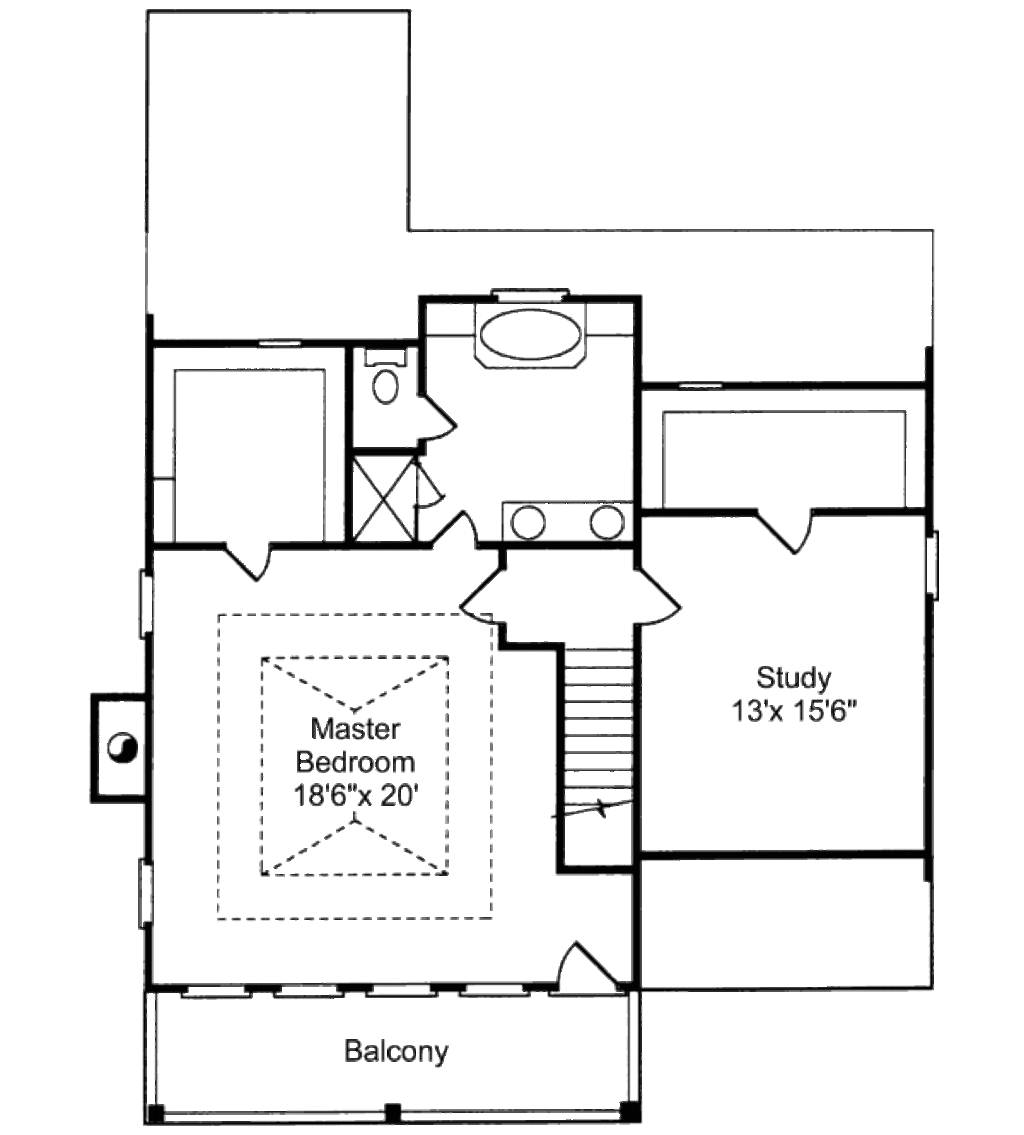door: (629, 560, 676, 634), (557, 944, 626, 989), (757, 505, 814, 551), (457, 570, 503, 620), (229, 546, 281, 579), (422, 396, 450, 437), (419, 460, 440, 512)
large_sink: (362, 349, 414, 410)
stairs: (560, 643, 641, 867)
tub: (471, 293, 590, 375)
twin_sink: (500, 499, 627, 541)
window: (927, 527, 936, 596), (184, 986, 245, 996), (464, 984, 529, 993), (279, 986, 345, 994), (369, 987, 434, 993), (143, 568, 148, 627)
